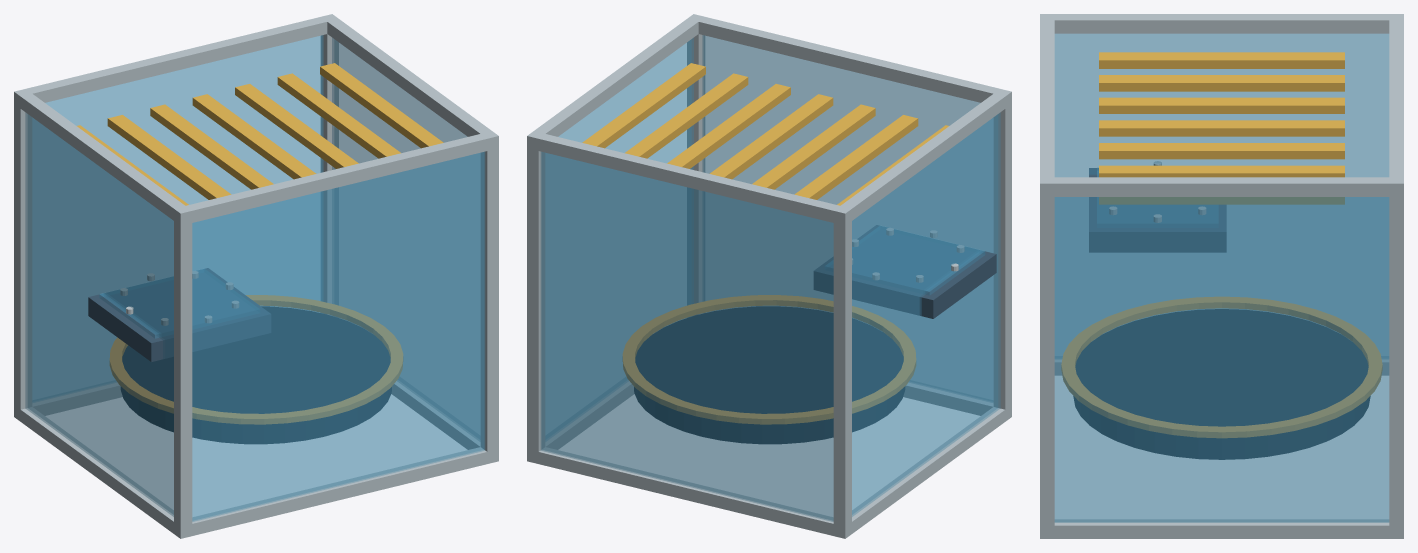
File: 43_L79_BondThermalConsolidationChamber.fbx
The picture shows the model from 3 angles, left to right: view 1: azimuth 30°, elevation 25°; view 2: azimuth 150°, elevation 25°; view 3: azimuth 270°, elevation 25°; orthographic projection. The views are drawn at different scales.
Visible parts, largest first — view 1: BondThermalConsolidationChamber, BondThermalConsolidationChamber_Part_0025, BondThermalConsolidationChamber_Part_0026; view 2: BondThermalConsolidationChamber, BondThermalConsolidationChamber_Part_0025, BondThermalConsolidationChamber_Part_0026; view 3: BondThermalConsolidationChamber, BondThermalConsolidationChamber_Part_0025.
Boxes of the visible parts, bbox=[...] form: BondThermalConsolidationChamber: bbox=[14, 14, 498, 538]; BondThermalConsolidationChamber_Part_0025: bbox=[88, 268, 270, 361]; BondThermalConsolidationChamber_Part_0026: bbox=[99, 269, 259, 338]; BondThermalConsolidationChamber: bbox=[527, 14, 1011, 538]; BondThermalConsolidationChamber_Part_0025: bbox=[814, 225, 996, 318]; BondThermalConsolidationChamber_Part_0026: bbox=[825, 226, 985, 295]; BondThermalConsolidationChamber: bbox=[1040, 14, 1403, 538]; BondThermalConsolidationChamber_Part_0025: bbox=[1089, 168, 1226, 252].
Bounding box in the file's own units: 306 × 293 × 272.
